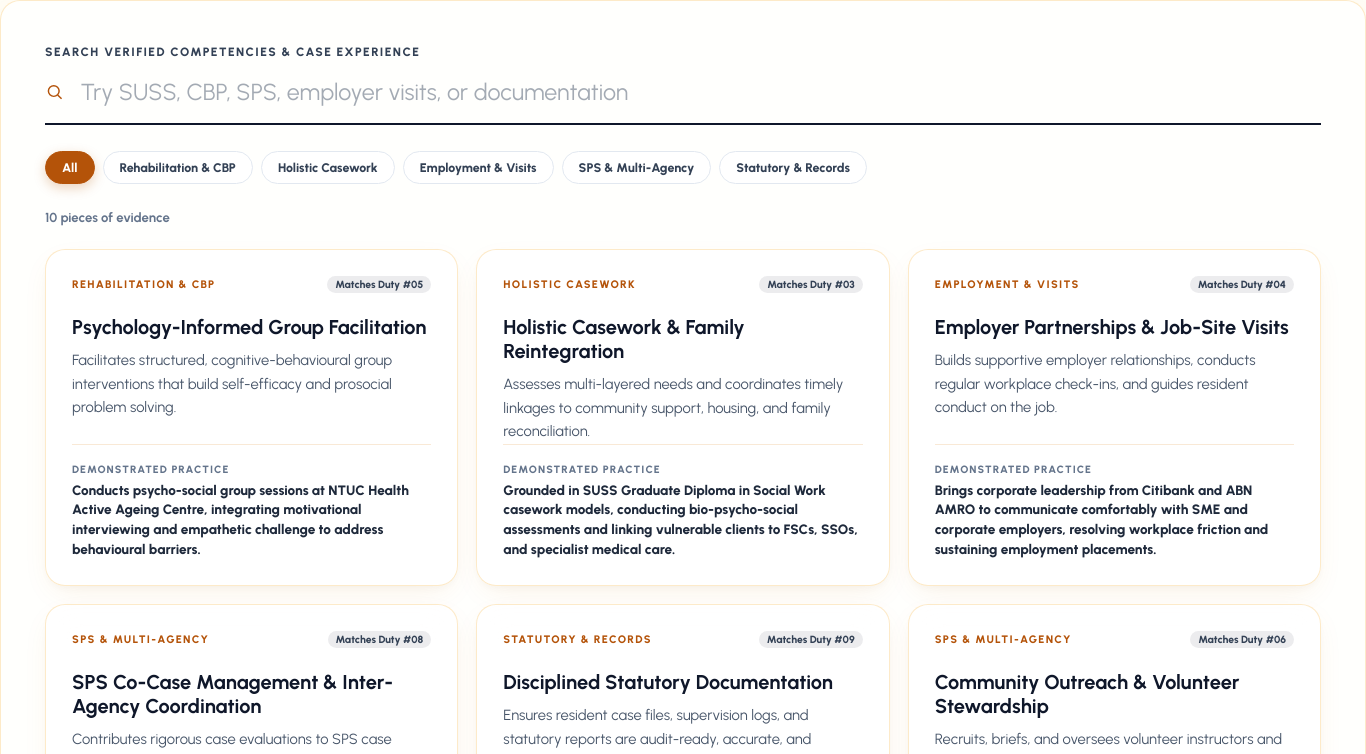
Test: case-management evidence finder › combines category and text filters against real evidence
This screenshot has width=1366, height=754.
Click the button "Statutory & Records" at (793, 168), box [719,151,867,184]
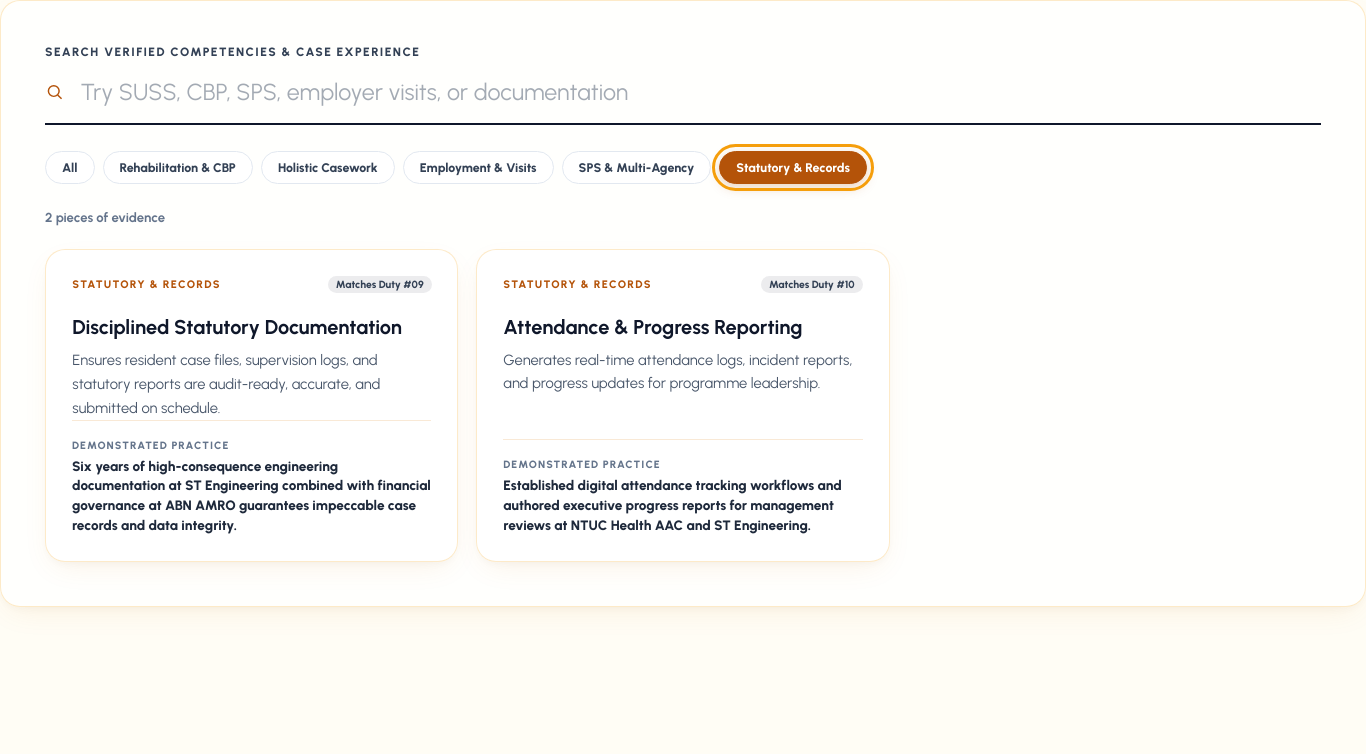
Type "attendance" into the search field labelled "Search verified competencies & case experience" at (700, 92), box [78,77,1321,107]
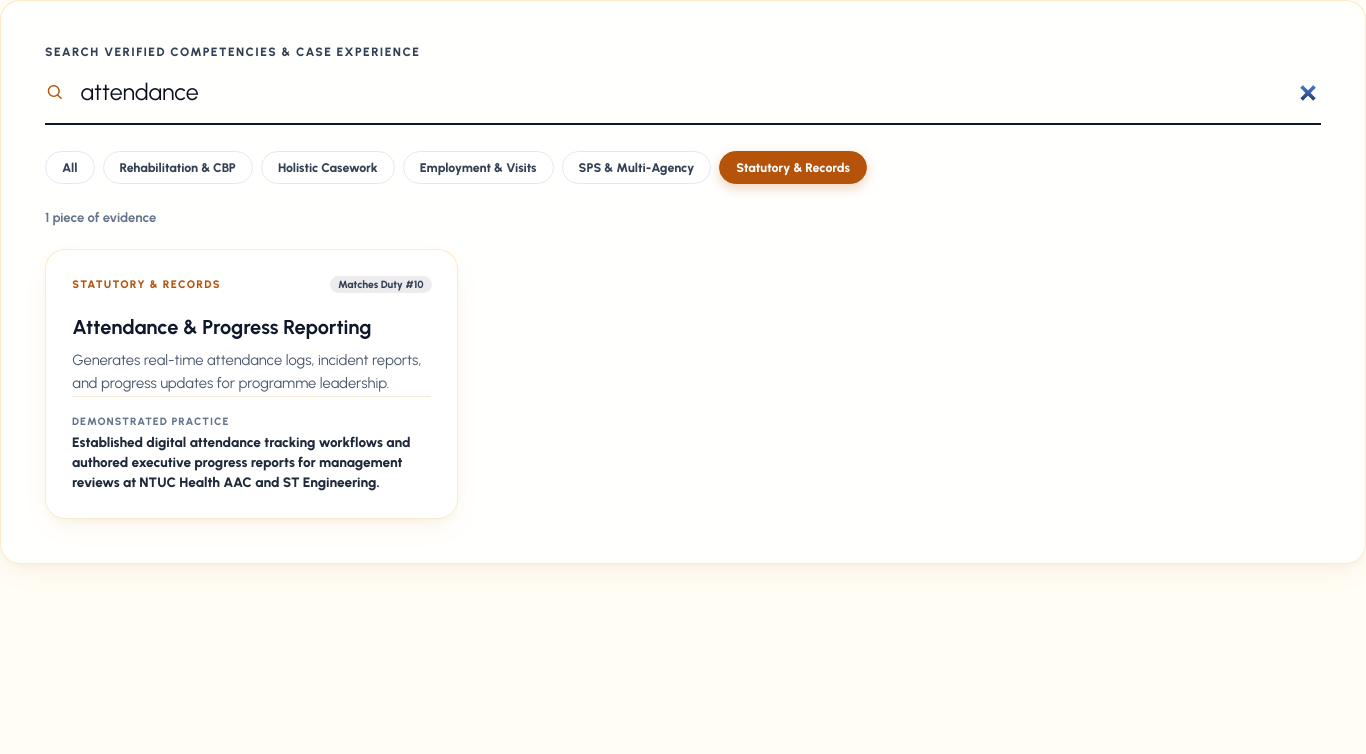
Check: the heading "Attendance & Progress Reporting" is shown, box [72,315,371,339]
Check: the message reads "1 piece of evidence", box [45,210,156,225]
Check: the heading "Disciplined Statutory Documentation" is gone
